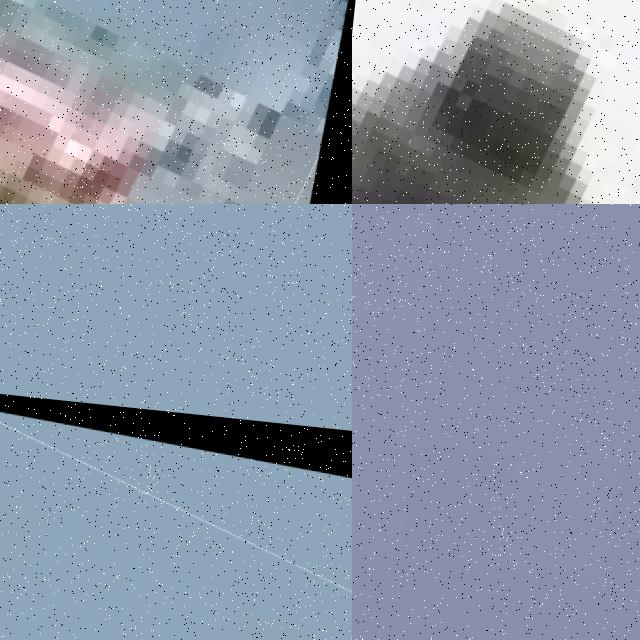drone: (0, 370, 352, 640), (0, 0, 352, 204), (352, 0, 640, 204)
